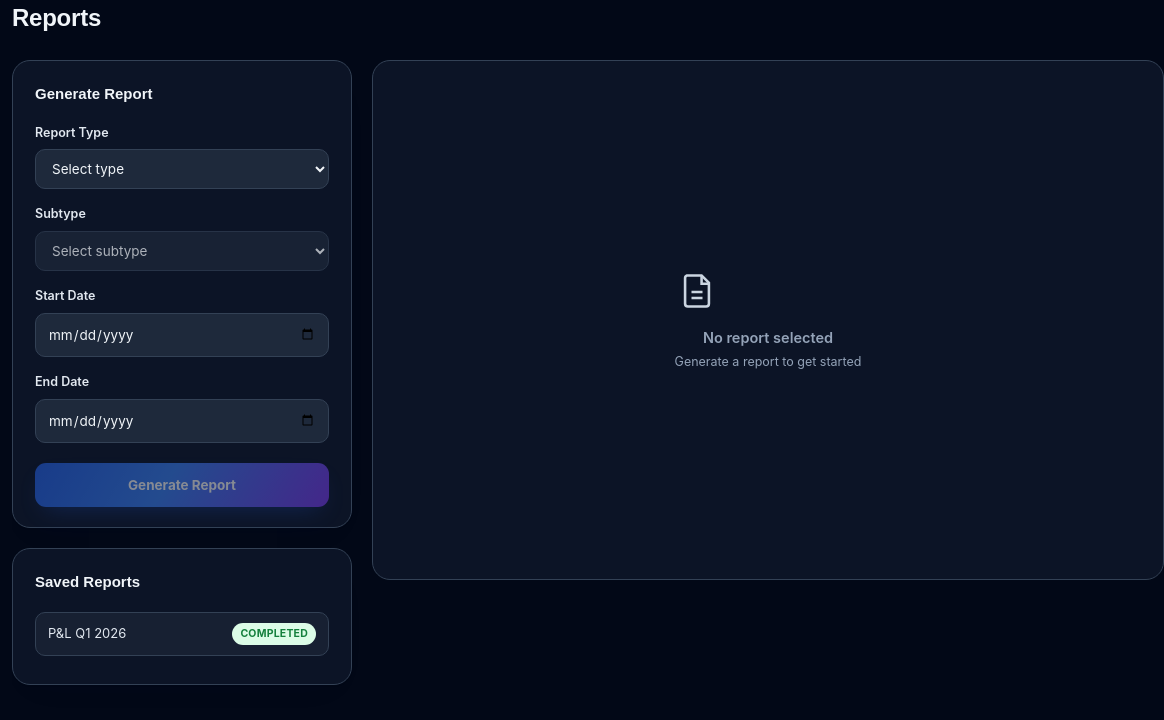
Test: FinlyHubReports › shows a chart when chartConfig is present
This screenshot has width=1164, height=720.
Click the text "P&L Q1 2026" at [87, 634], box [48, 624, 126, 643]
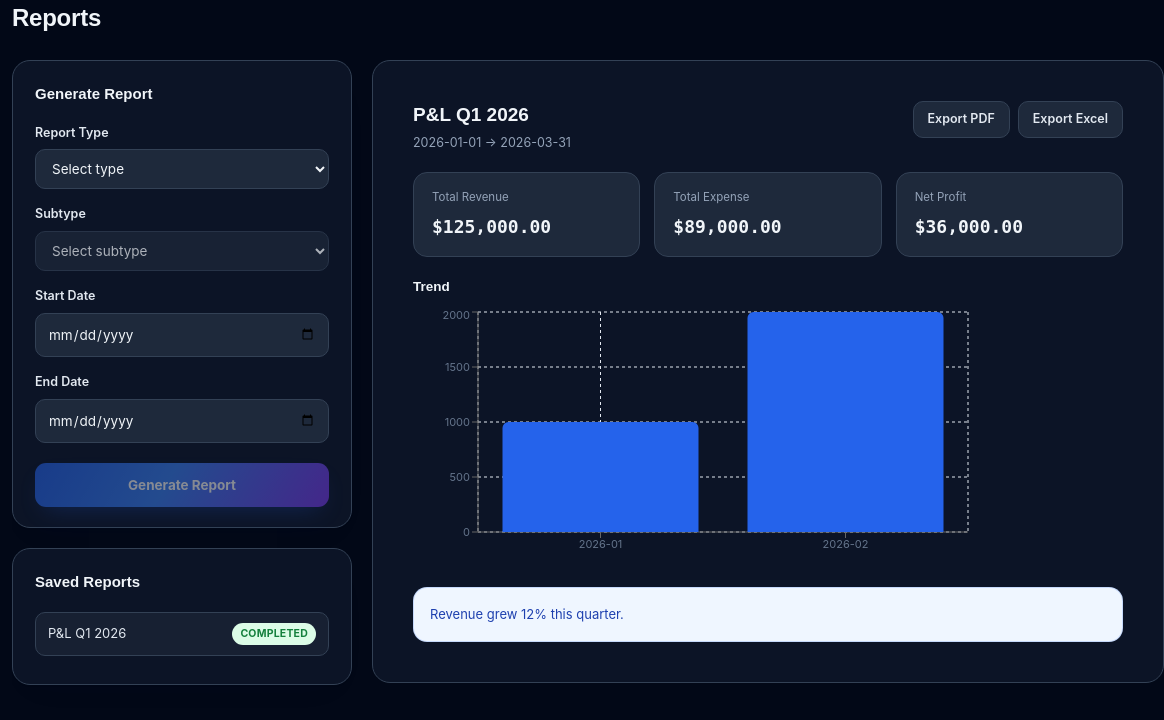
Check: the icon with class "recharts-surface" is shown, box [413, 307, 973, 567]
Check: the heading "Trend" is shown, box [413, 278, 450, 294]
